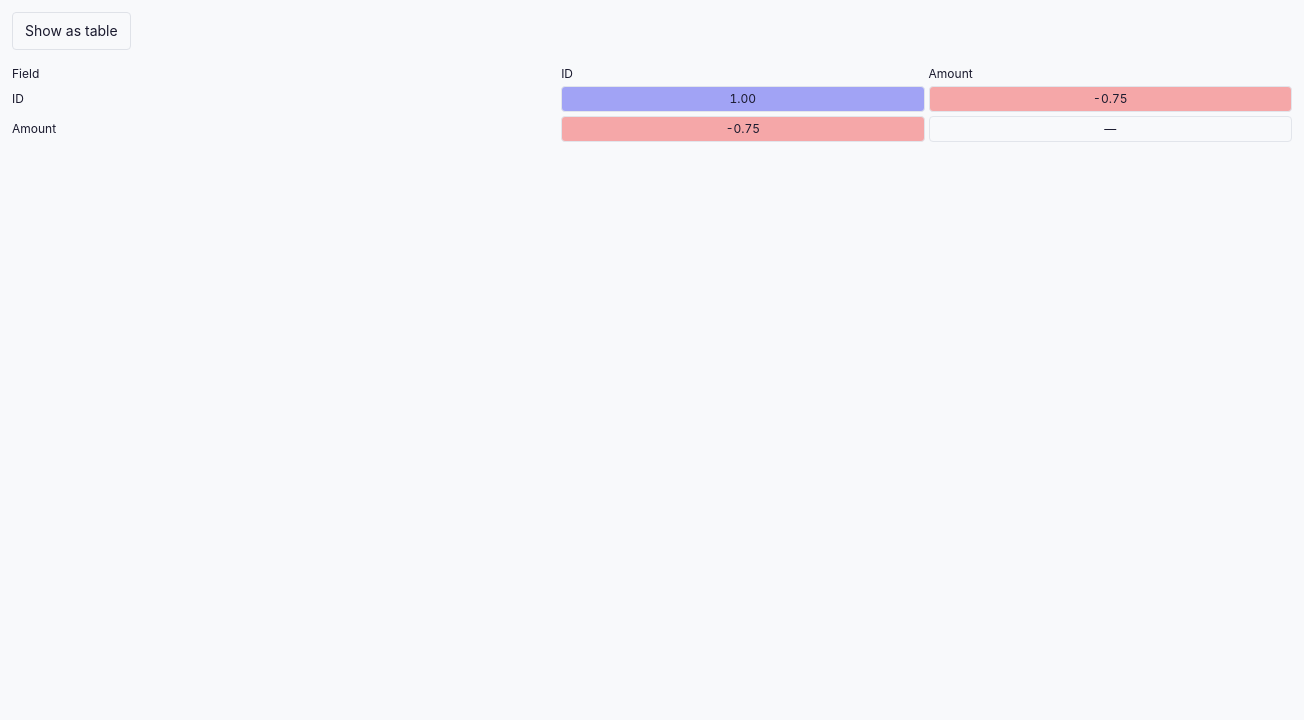
Scenario: opens the supplied scatter from an accessible coloured heatmap cell and offers a table
Check: the button named "Amount and Amount: r = unavailable" is disabled, box [929,116,1292,142]
Click the button named "ID and Amount: r = -0.75": click(1110, 99) [929,86,1292,112]
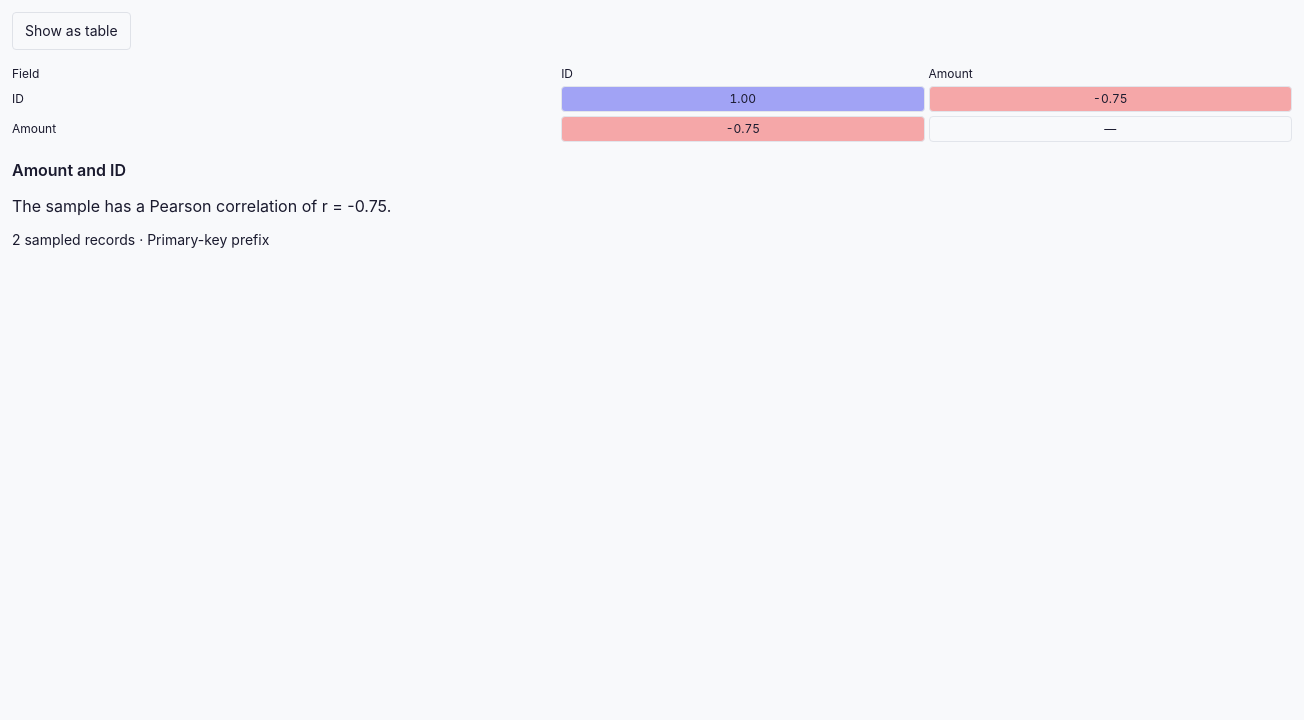
Check: the text "The sample has a Pearson correlation of r = -0.75." is shown, box [12,196,391,216]
Click the button "Show as table": click(71, 31) [12,12,131,50]
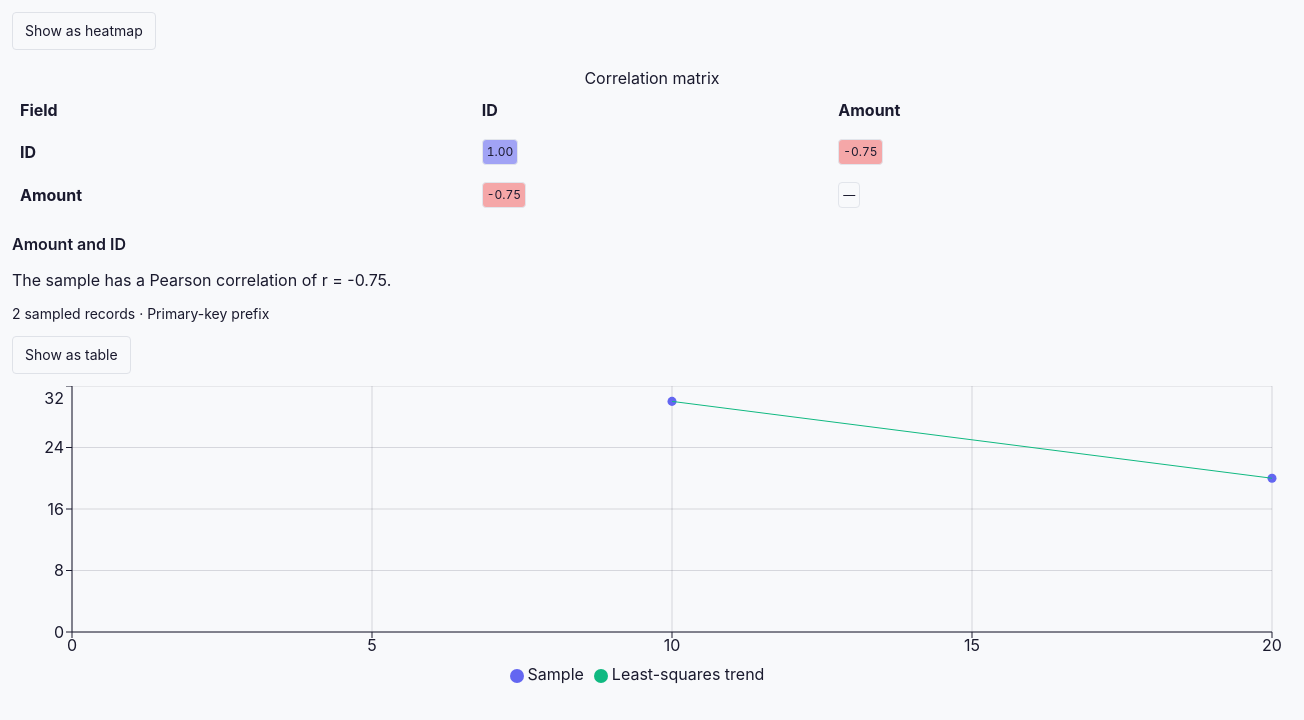
Check: the table is shown, box [12,66,1292,216]
